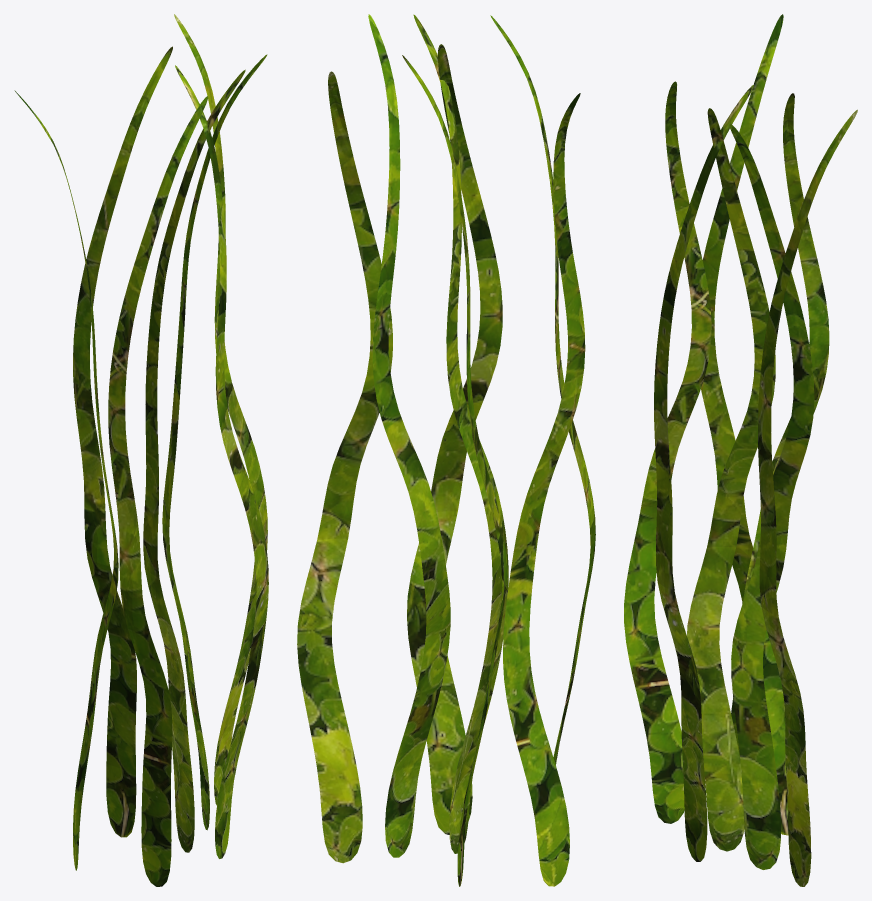
Rendered from algae 1.glb.
3 views of the same model, side by side, from view 1: azimuth 30°, elevation 25°; view 2: azimuth 150°, elevation 25°; view 3: azimuth 270°, elevation 25° (orthographic). The views are drawn at different scales.
Visible parts, largest first — view 1: algae1; view 2: algae1; view 3: algae1.
Boxes of the visible parts, x1=… form: algae1: x1=14, y1=14, x2=268, y2=886; algae1: x1=297, y1=14, x2=595, y2=886; algae1: x1=624, y1=14, x2=857, y2=886.
Size of the model in its own units: 0.6719 by 1.93 by 0.5318.
Materials: 1 (1 with a texture image).
